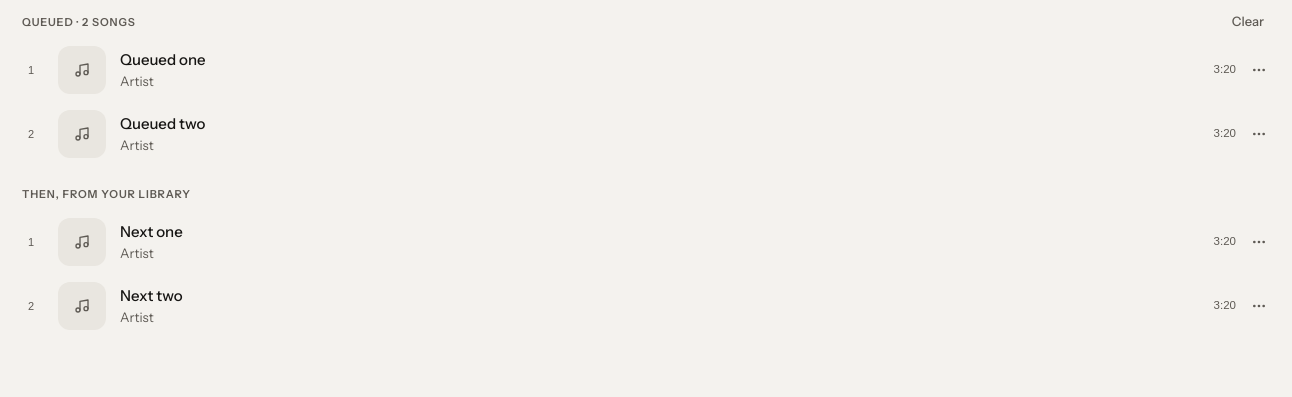
Test: NowQueue › offers no way to take a library song off the queue, which it is not on
The image size is (1292, 397).
Press the mouse on the button named "More for Next one": (1259, 242) x1=1242 y1=225 x2=1276 y2=259
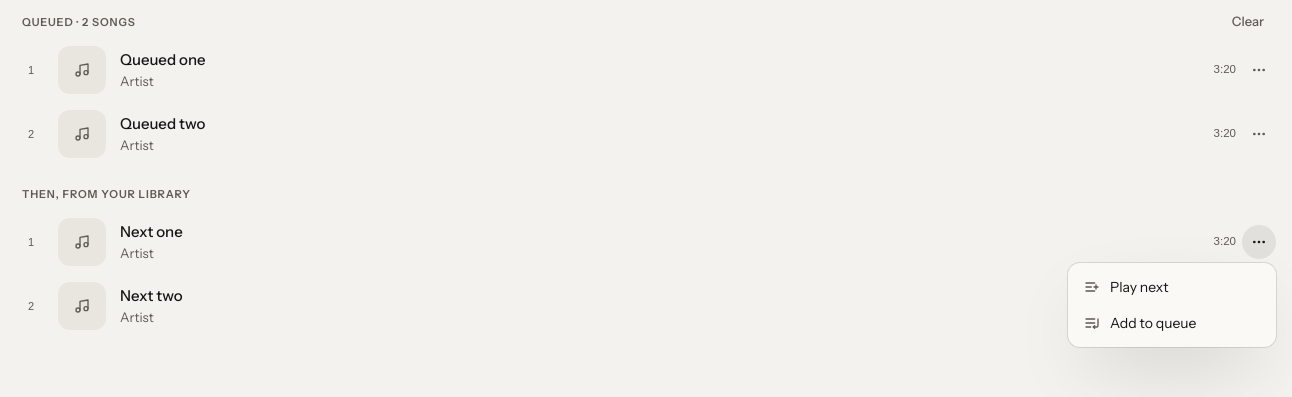
expect the menu item "Play next" is shown: met, box x1=1084 y1=278 x2=1169 y2=296
